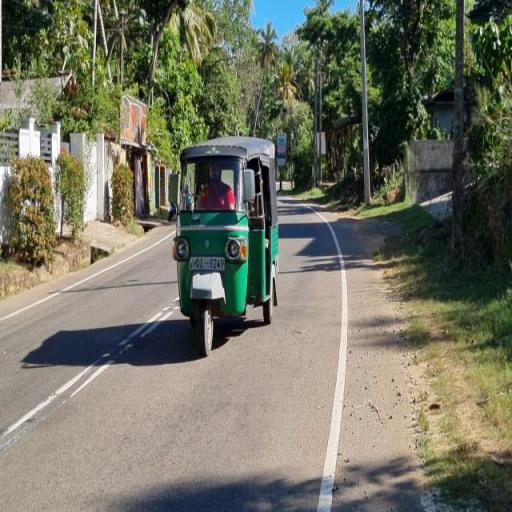double_white_line: (2, 293, 176, 456)
